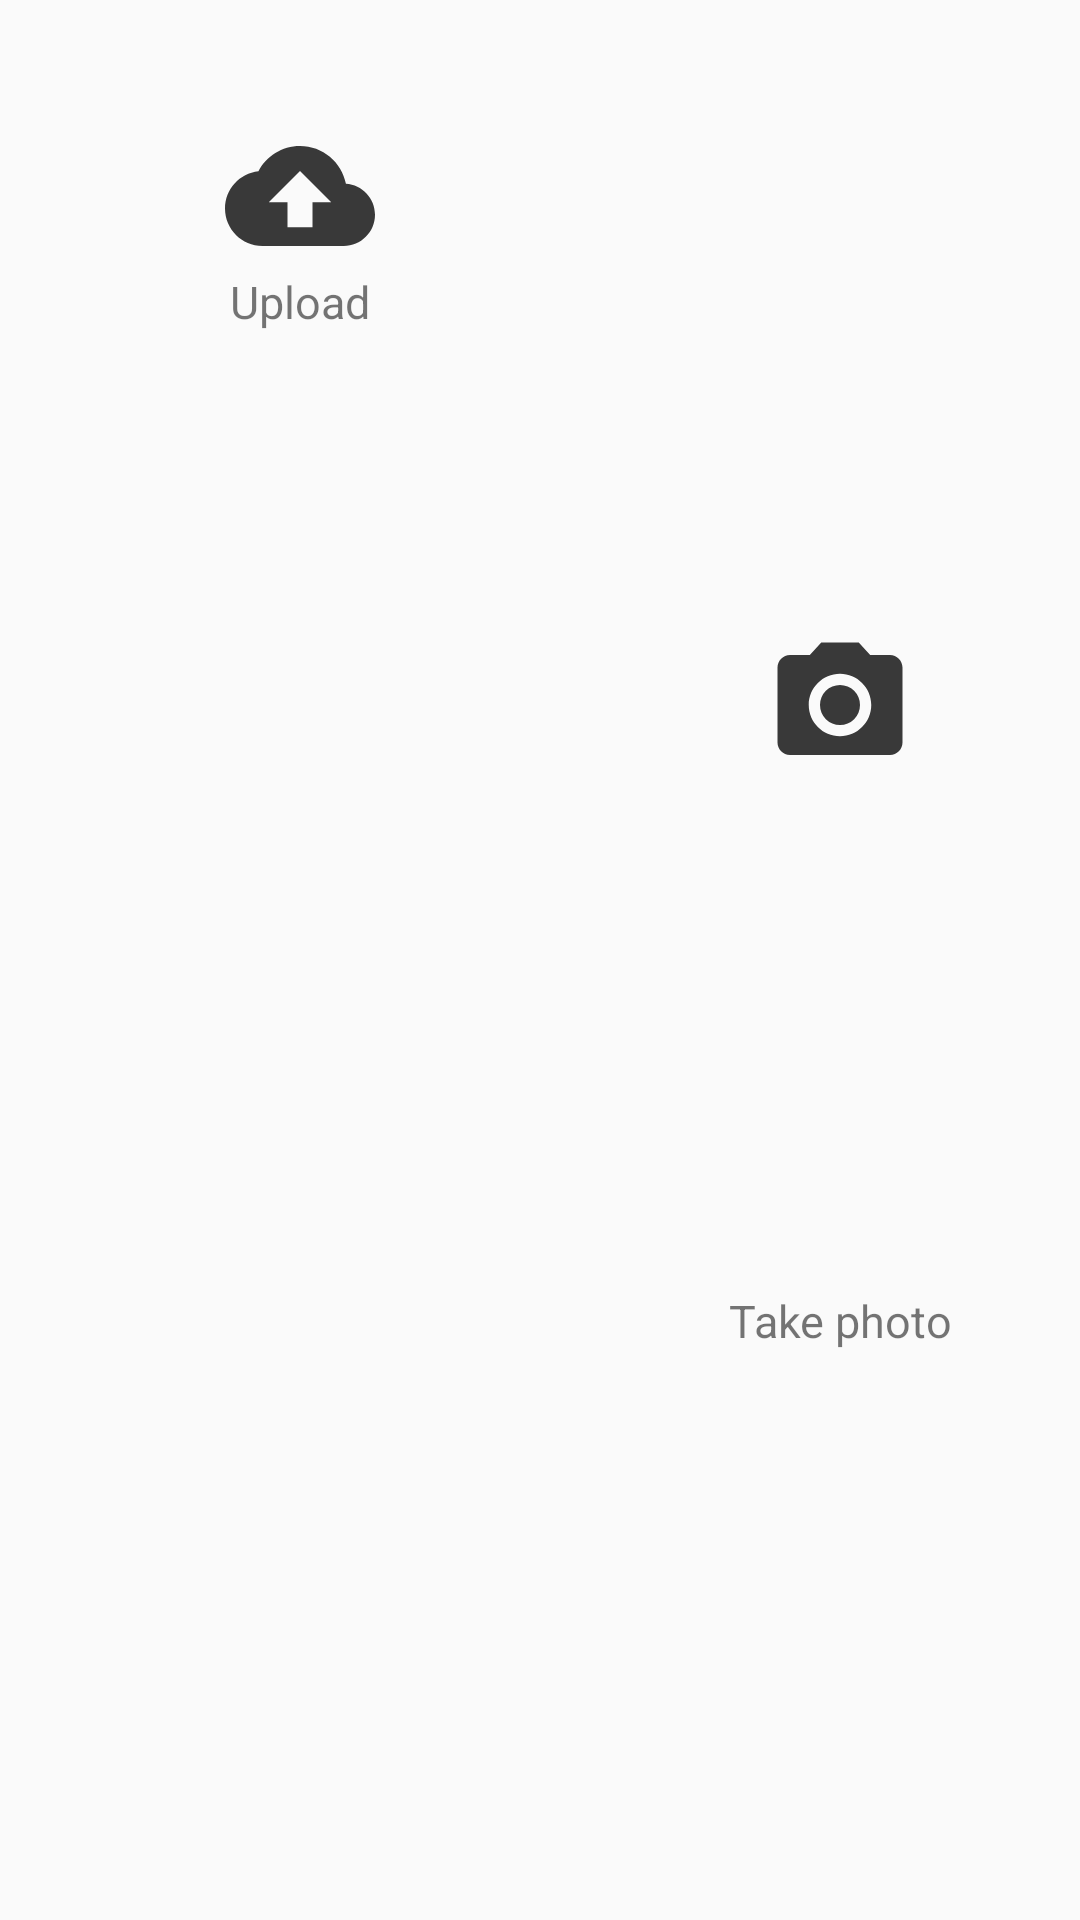

Where icons sit on this 1080x1920 app screen, as (x1, y1, x2, y2):
camera: (777, 642, 903, 755)
